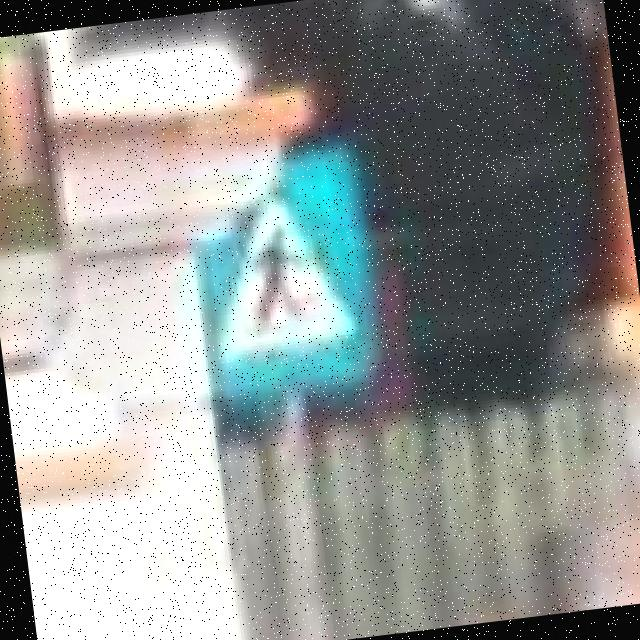Przejscie dla pieszych: (180, 146, 387, 400)
